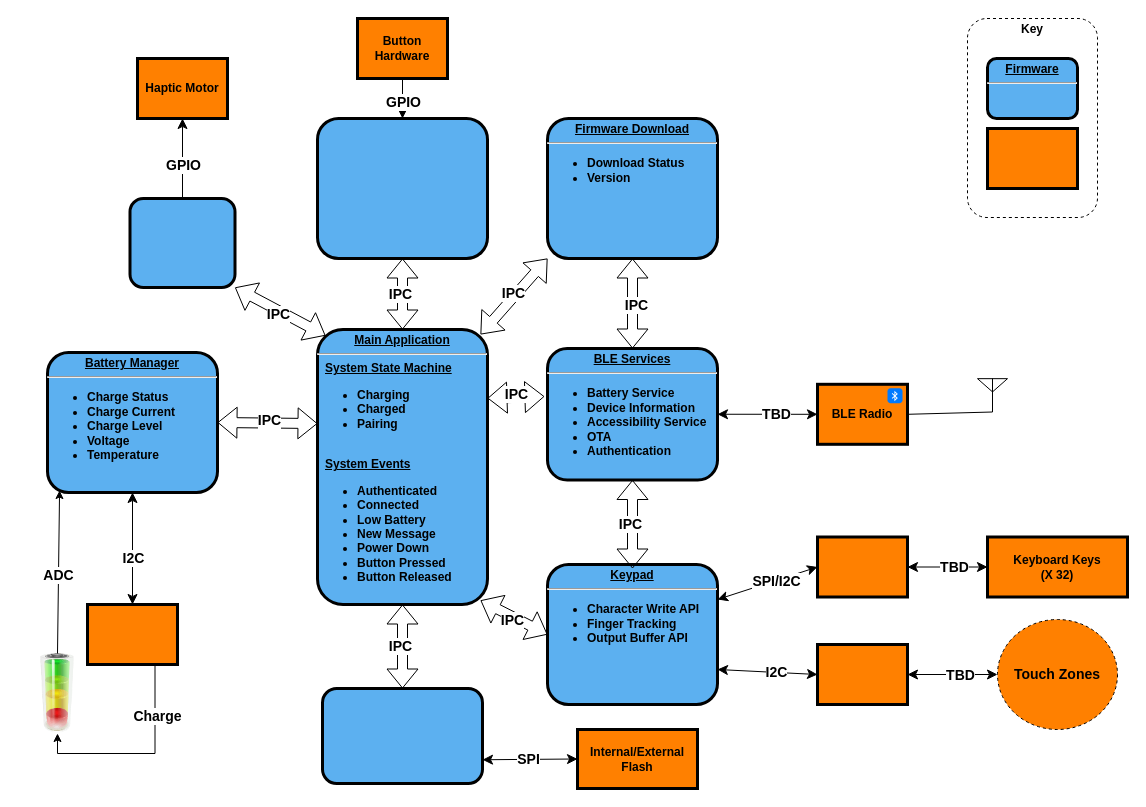
Some shapes in this 1146 by 807 pixel diagram are drawn without their labels. The shapes that lost their labels are listed below. From the top down, each one's box as (x1, y1, x2, y2) in pixels, then its label:
(986, 126, 1078, 190): Hardware
(316, 116, 488, 260): Button Manager Short Press Long Press Double Press
(128, 196, 236, 288): PWM Driver PWM Pulses For Motor UI
(816, 535, 908, 598): Keyboard Hardware Driver
(86, 602, 178, 666): Wireless Charger RX
(816, 642, 908, 706): Capacitive Touch Controller
(320, 686, 484, 784): NVM Service Download Status Version
